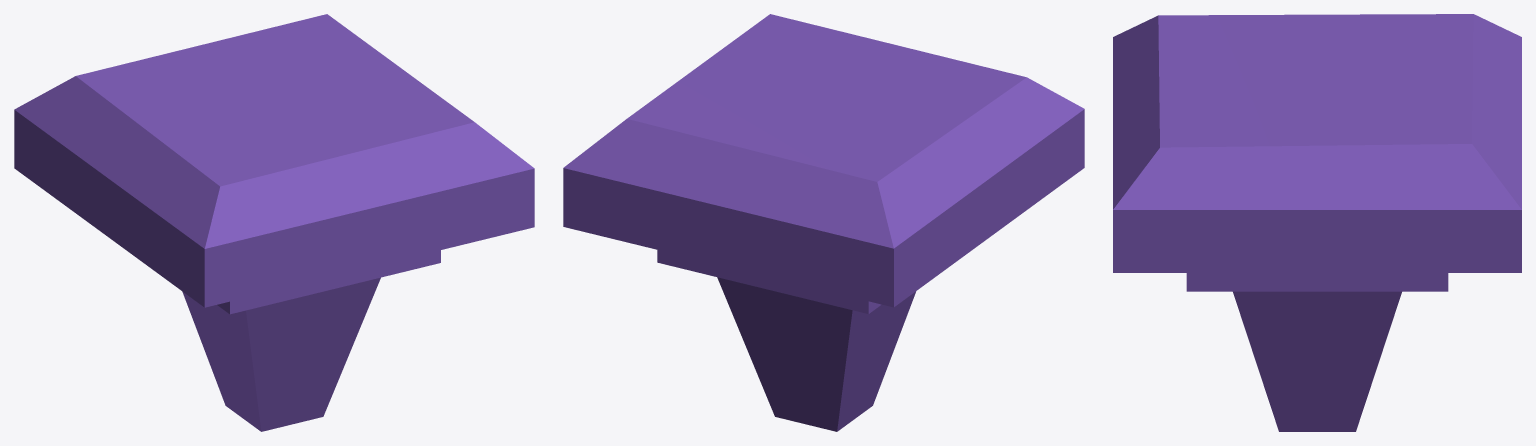
The model's file is rocketColoredP1.glb.
3 renders of one model, left to right at view 1: azimuth 30°, elevation 25°; view 2: azimuth 150°, elevation 25°; view 3: azimuth 270°, elevation 25°, orthographic. The views are drawn at different scales.
Visible parts, largest first — view 1: Cube.004; view 2: Cube.004; view 3: Cube.004.
Part boxes in pixels (<box>): Cube.004: <box>14,14,534,431</box>; Cube.004: <box>563,14,1084,431</box>; Cube.004: <box>1113,14,1521,431</box>.
Size of the model in its own units: 3.71 by 3.37 by 3.71.
Materials: 1 (1 with a texture image).
